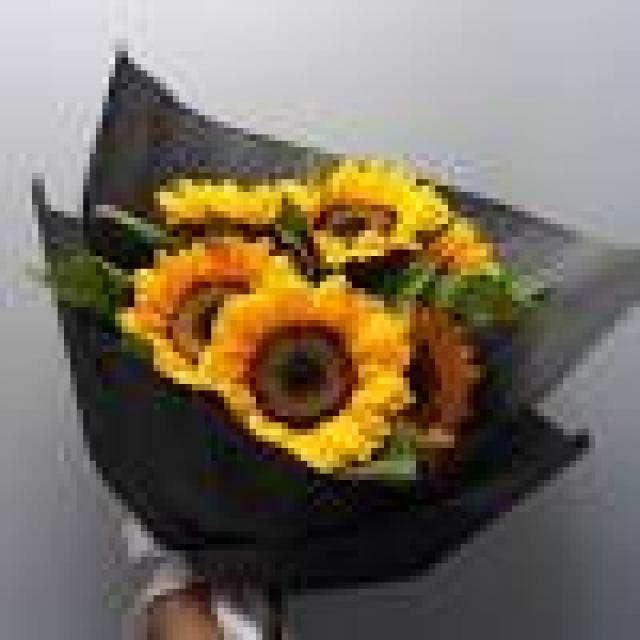sunflower: (182, 275, 406, 461), (99, 240, 298, 368), (284, 160, 458, 275)
